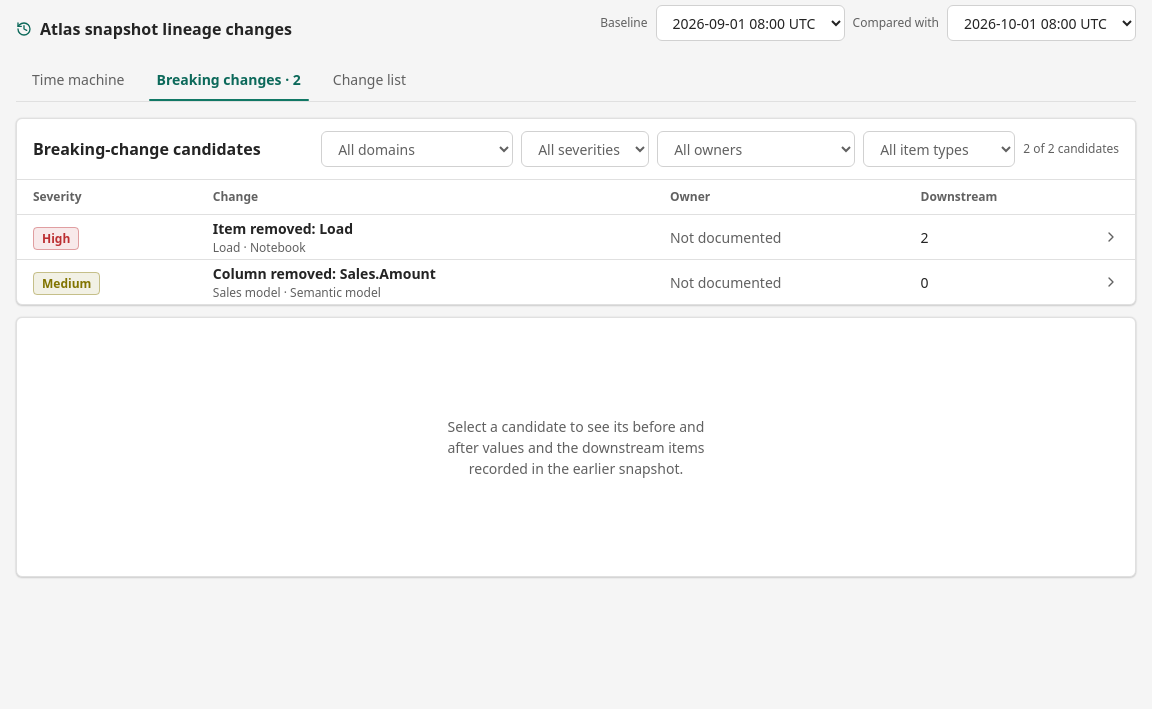
Test: LineageChangesPanel › restores deep-linked snapshots, section and selection
Expected: the column headings read "Severity", "Change", "Owner", "Downstream", "Open", in this order, [17, 180, 201, 214]; [201, 180, 658, 214]; [658, 180, 909, 214]; [909, 180, 1095, 214]; [1095, 180, 1135, 214]
Click the text "Column removed: Sales.Amount". click: (324, 273)
box: [213, 262, 436, 284]
(page scrolled)
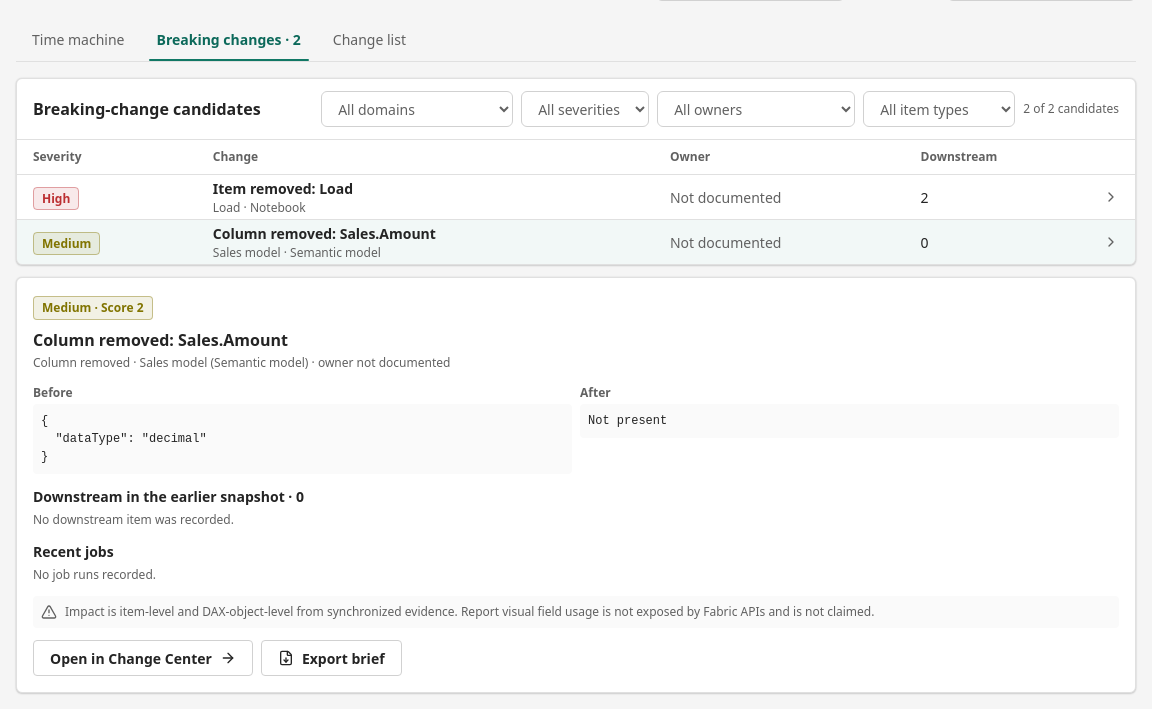
Expected: the element named "Breaking change evidence" shows "Report visual field usage is not exposed", [65, 603, 874, 620]
